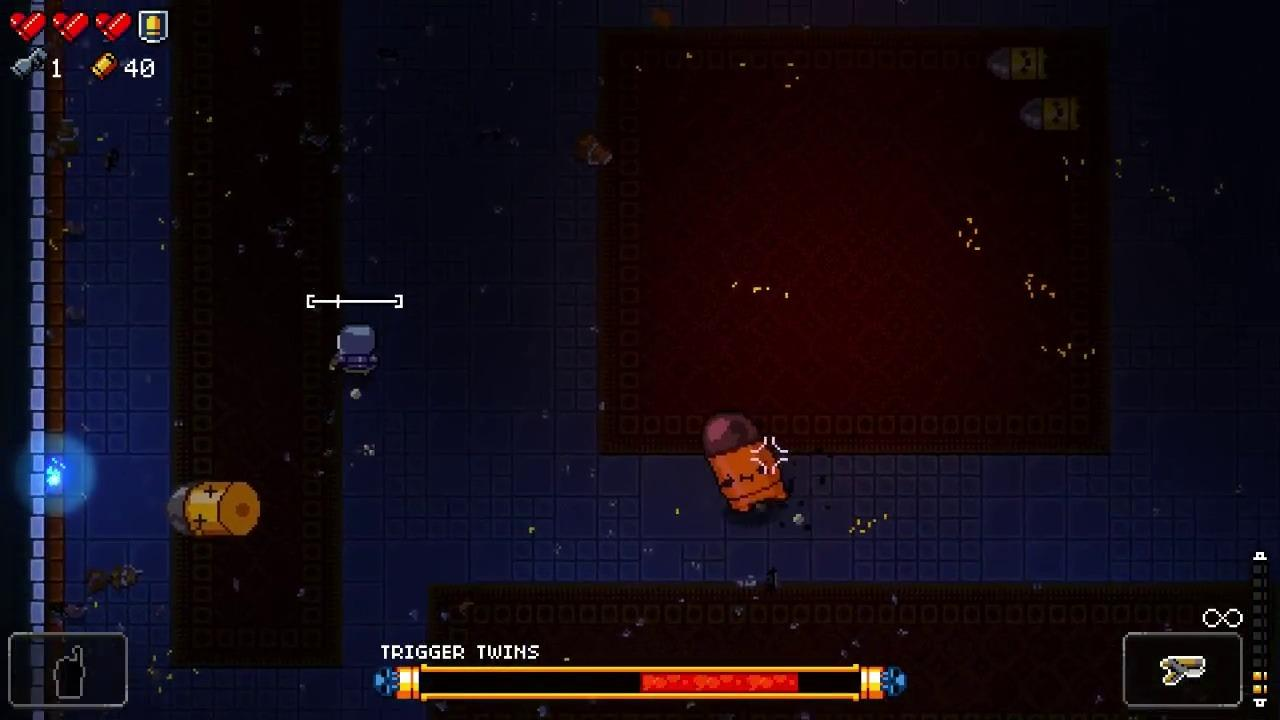boss_smiley: (701, 414, 785, 511)
dead_boss_shades: (167, 482, 261, 536)
dead_bullet_kin: (988, 45, 1046, 85), (1020, 95, 1080, 131)
player: (335, 323, 380, 377)
